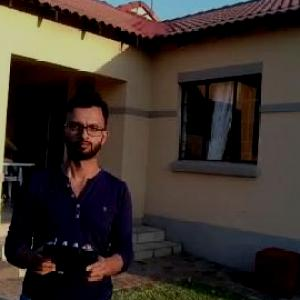follow: (0, 84, 137, 299)
